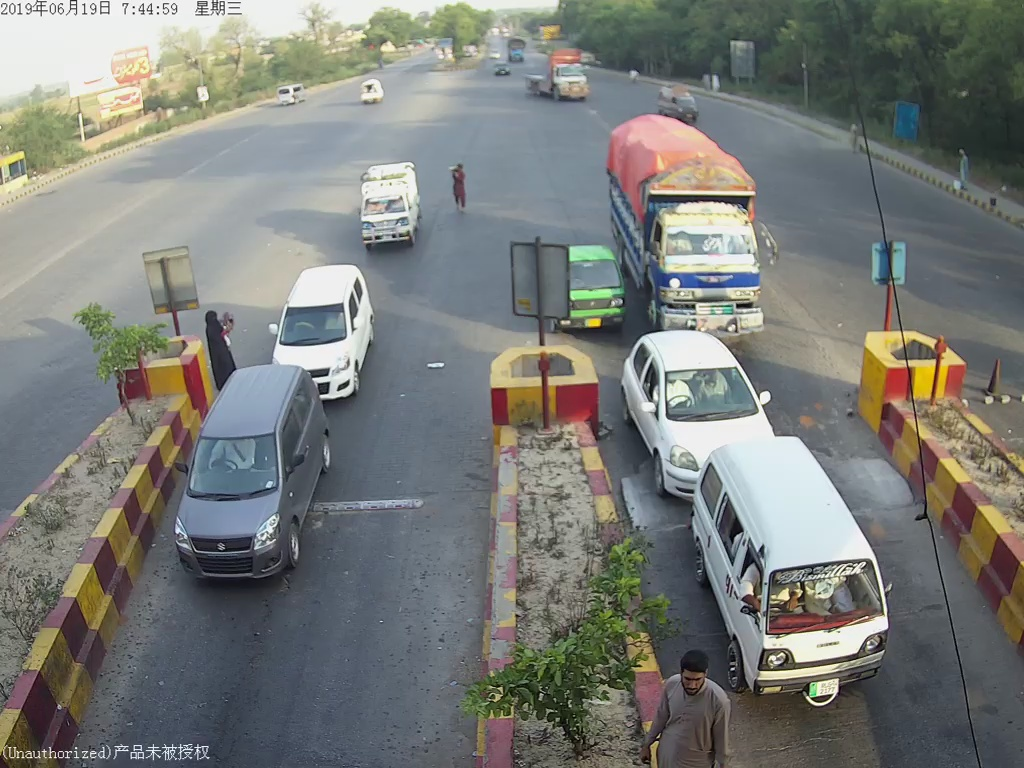Cat-1: (690, 442, 900, 707), (177, 366, 331, 588), (617, 334, 778, 441), (275, 264, 380, 373), (358, 163, 421, 253)
Cat-4: (609, 112, 775, 331)
